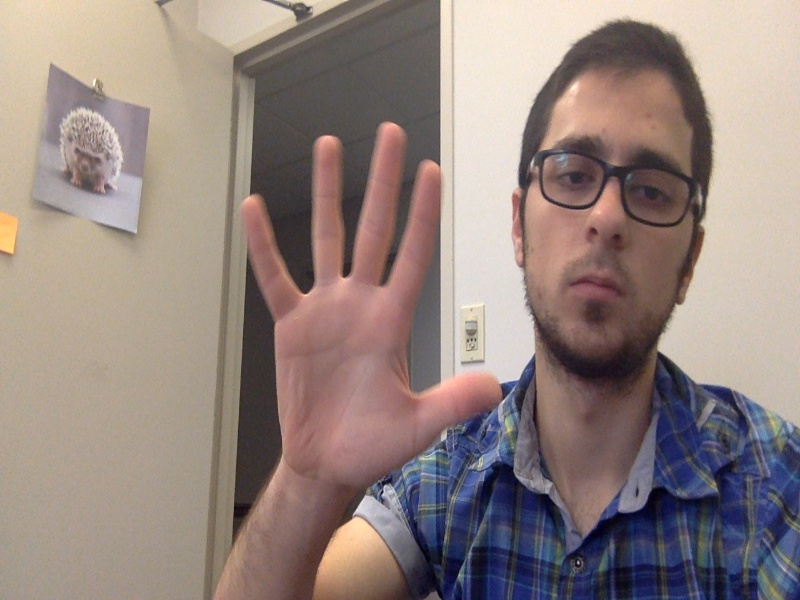5-hand: (238, 117, 501, 492)
